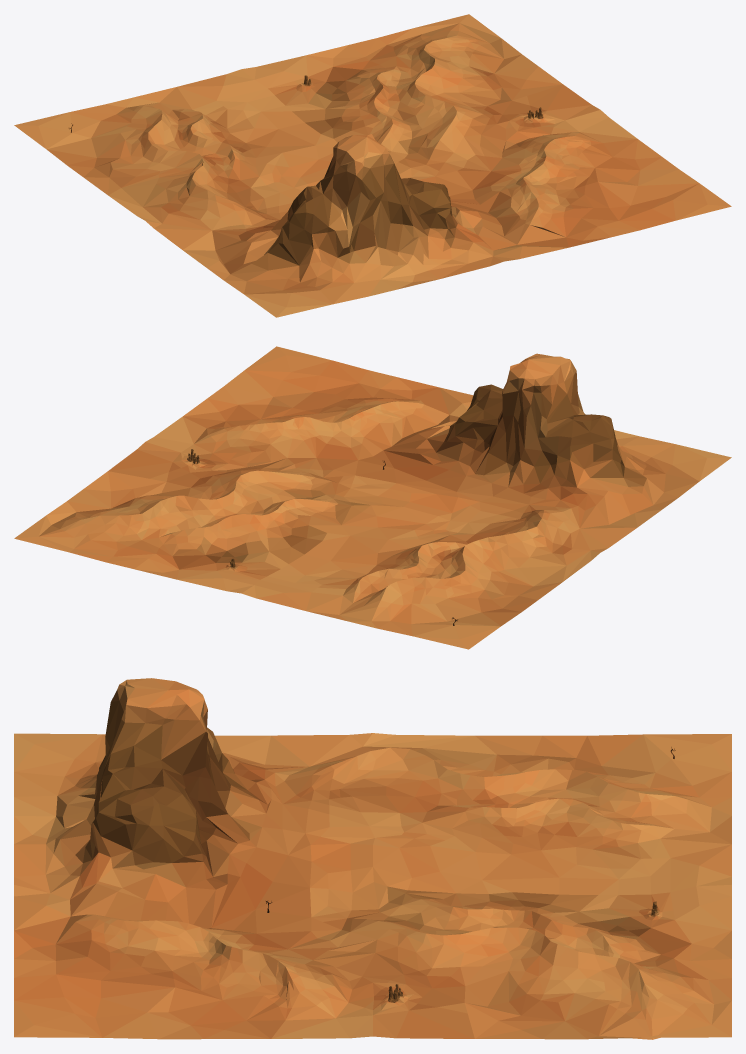
File: dunes.glb
The picture shows the model from 3 angles, top to bottom: view 1: azimuth 30°, elevation 25°; view 2: azimuth 150°, elevation 25°; view 3: azimuth 270°, elevation 25°; orthographic projection. The views are drawn at different scales.
Parts seen in each view (by area): view 1: D_tile_1; view 2: D_tile_1; view 3: D_tile_1.
Boxes of the visible parts, x1,y1,x2,y2 form: D_tile_1: (14, 14, 731, 317); D_tile_1: (14, 346, 731, 649); D_tile_1: (14, 678, 731, 1039).
Size of the model in its own units: 30034 by 7113 by 30000.
